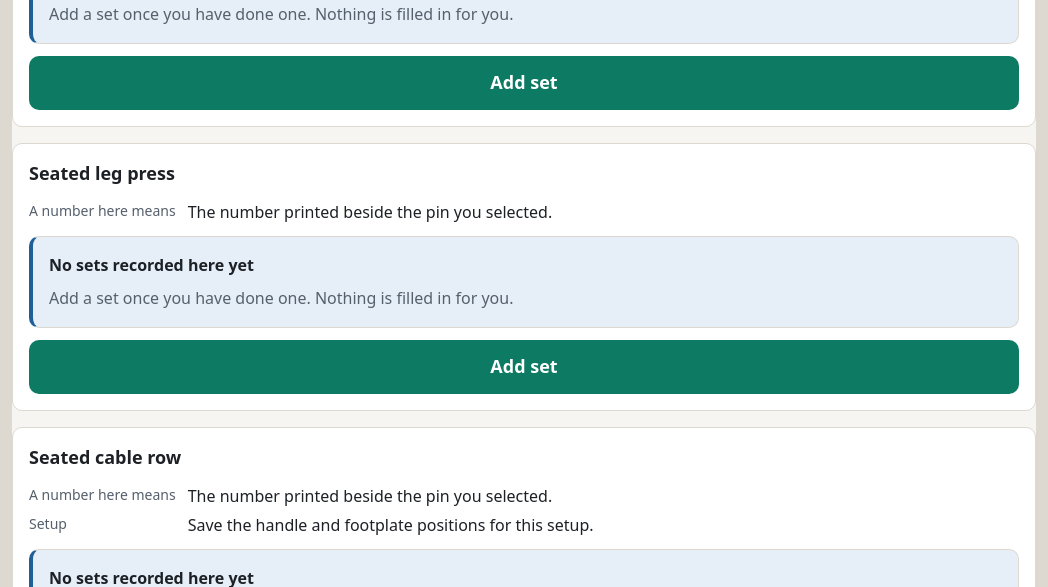
Test: handing ownership back › keeps a failed draft owned and visible, and Retry makes that revision durable
(page scrolled)
Expected: the heading "Seated leg press" is shown, [29,161,175,185]
Click the 2nd button "Add set": click(524, 367) [29,340,1019,394]
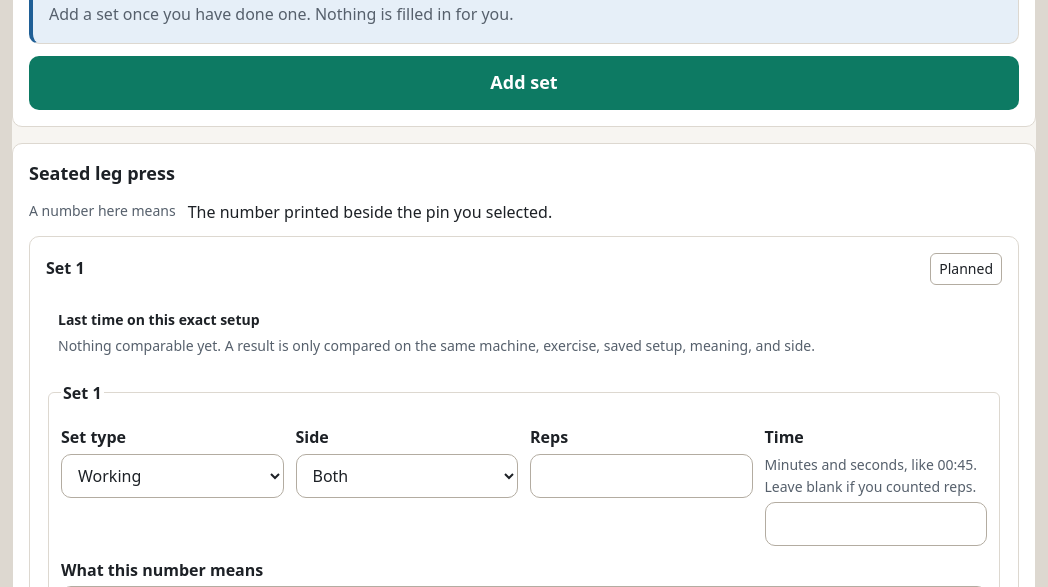
Result: the heading "Set 1" is shown at [46,256,84,281]
Click the field labelled "Reps": click(641, 476) [530,454,752,498]
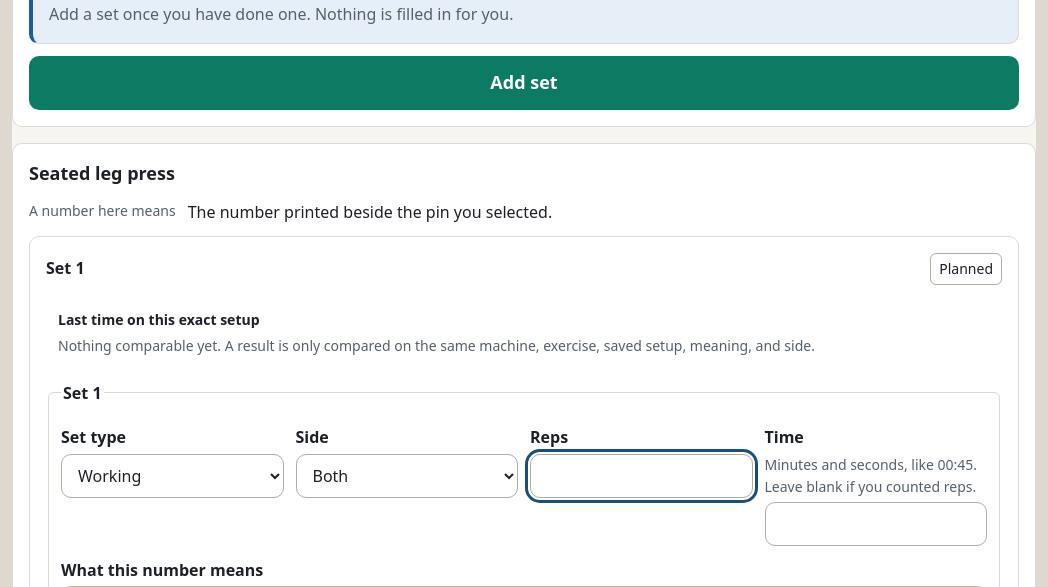
Type keys "10"
(page scrolled)
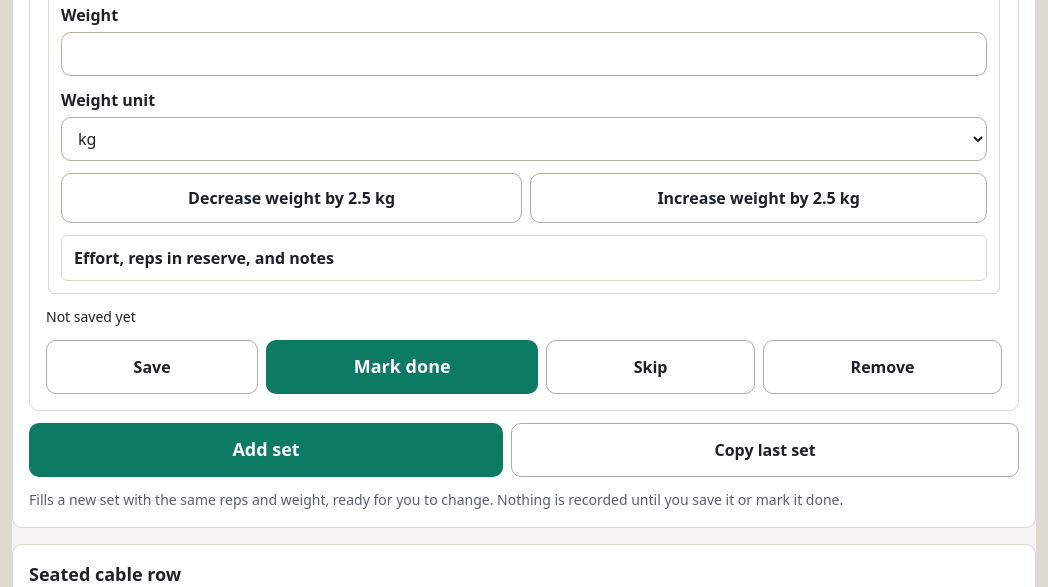
Click the button "Save": click(152, 367) [46,340,258,394]
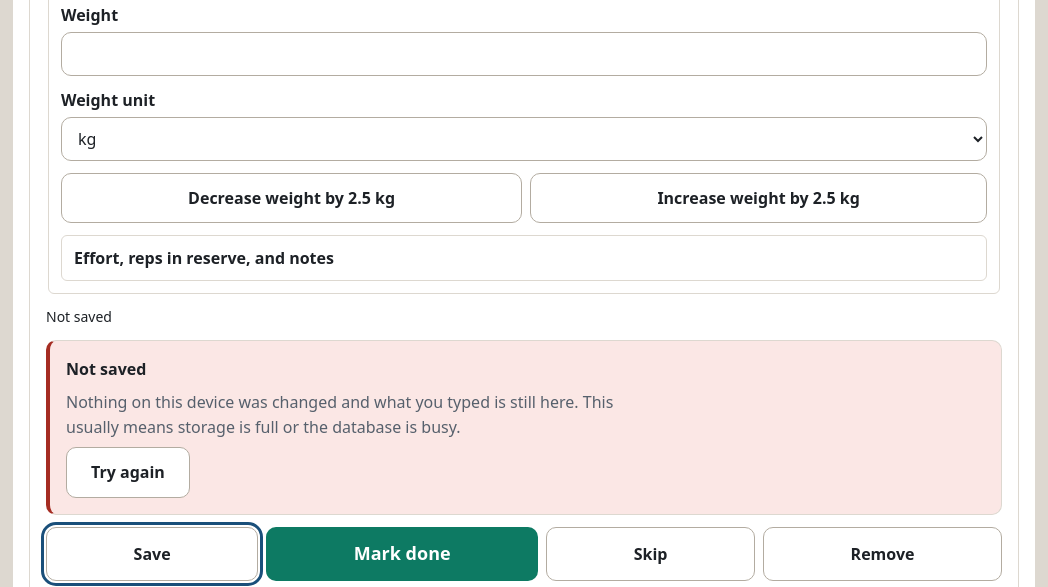
Result: the text "Nothing on this device was changed and what you typed is still here. This usually means storage is full or the database " is shown at [66,391,613,438]
Click the button "Try again": click(128, 473) [66,448,190,498]
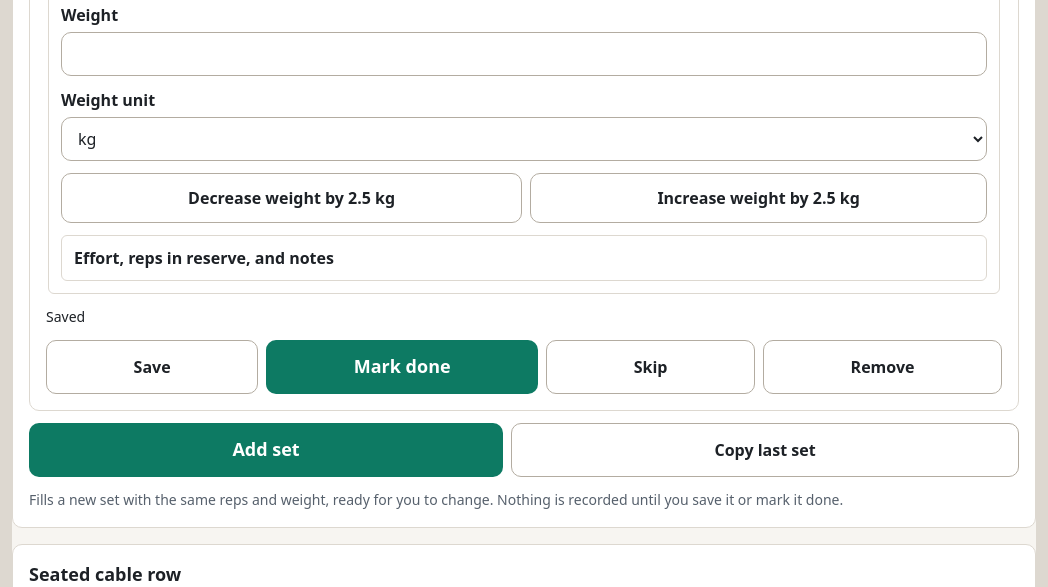
Result: the text "Saved" is shown at [46,307,85,326]
Click the button "Add set": click(266, 450) [29,423,503,477]
(page scrolled)
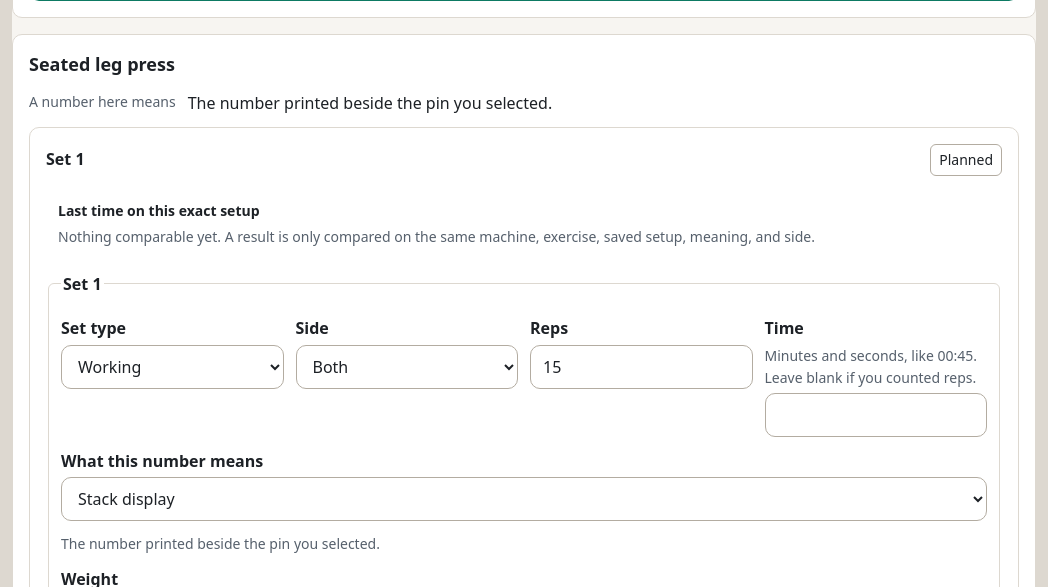
Result: the field labelled "Reps" holds "15" at [530,345,752,389]
